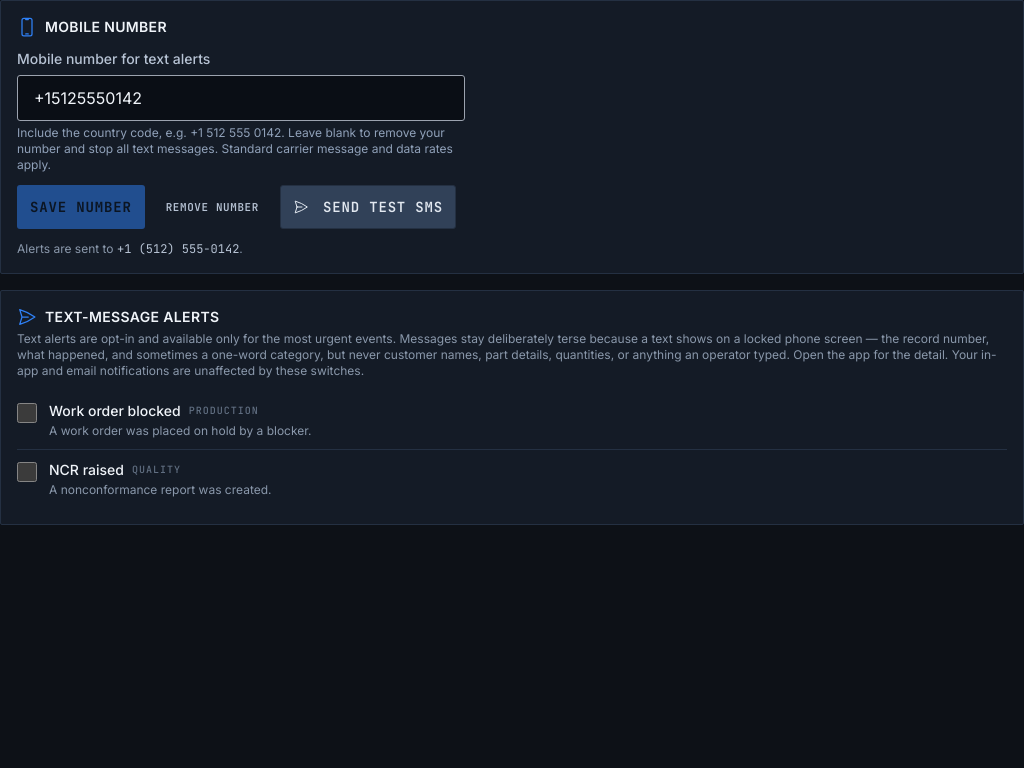
Test: SmsSettingsSection — phone number › sends null to clear the number and re-disables the toggles
expect the checkbox labelled "Work order blocked" is enabled: met, box [17,403,37,423]
Click the button "Remove number": (212, 207) [153,191,272,223]
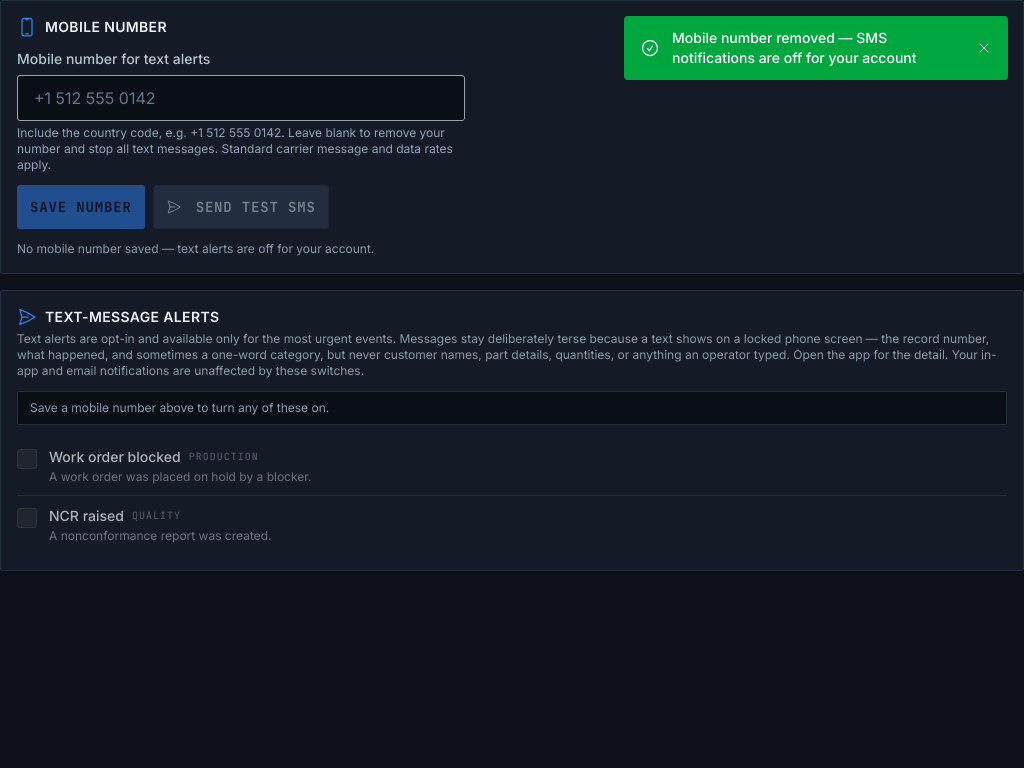
expect the checkbox labelled "Work order blocked" is disabled: met, box [17,449,37,469]
expect the text "No mobile number saved" is shown: met, box [17,241,374,256]
